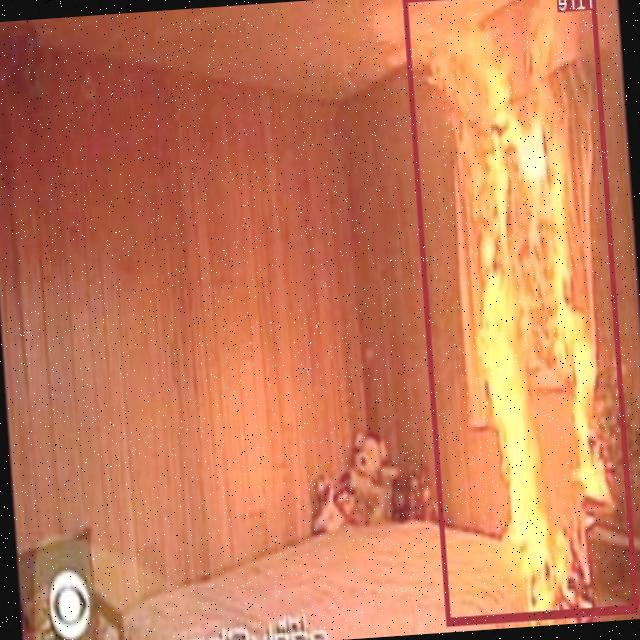fire: (403, 0, 639, 623)
